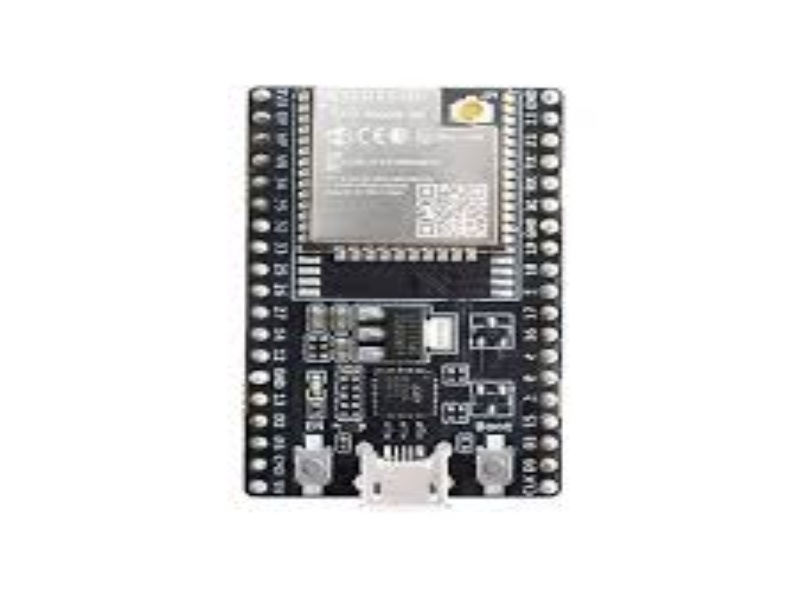esp32: (231, 68, 578, 509)
